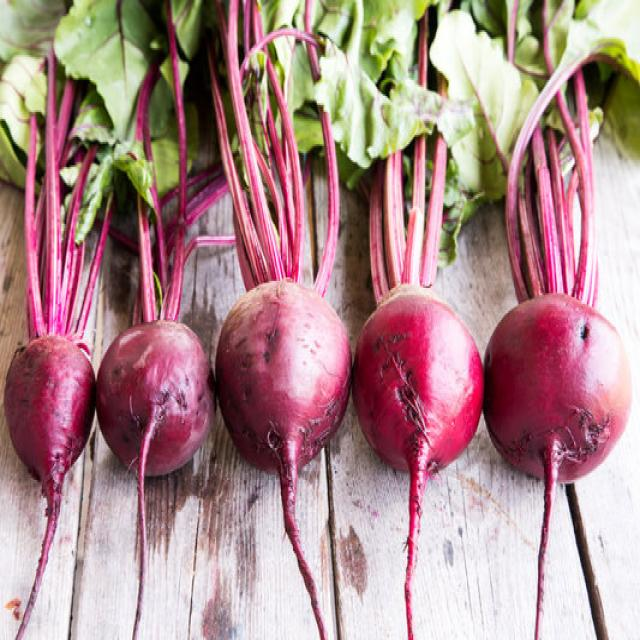Beetroot: (94, 2, 262, 638), (205, 0, 351, 636), (480, 46, 632, 636), (351, 6, 484, 638), (1, 43, 115, 638)
Coriander Leaves: (1, 0, 637, 261)
